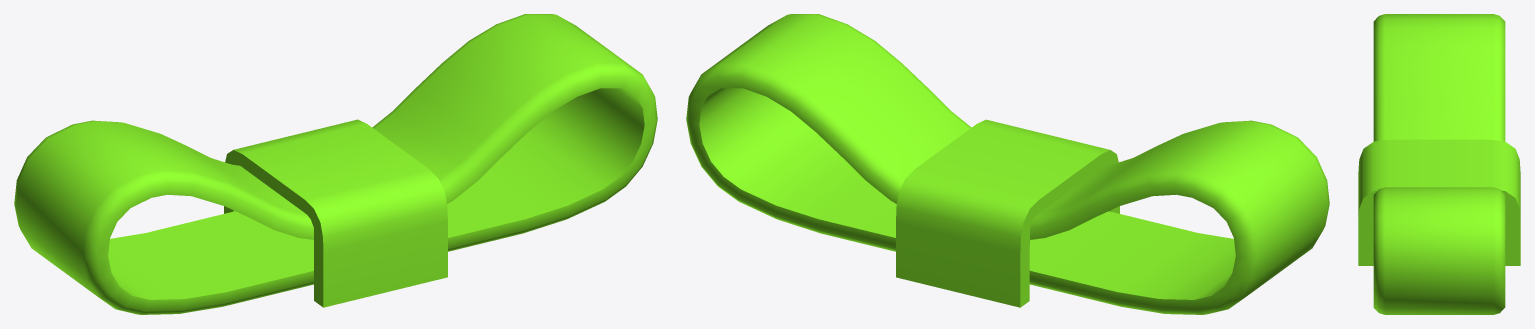
Rendered from Cake_ThemeBows_E.FBX.
The picture shows the model from 3 angles, left to right: view 1: azimuth 30°, elevation 25°; view 2: azimuth 150°, elevation 25°; view 3: azimuth 270°, elevation 25°; orthographic projection. The views are drawn at different scales.
Visible parts, largest first — view 1: Cake_ThemeBows_E; view 2: Cake_ThemeBows_E; view 3: Cake_ThemeBows_E.
Boxes of the visible parts, x1,y1,x2,y2 form: Cake_ThemeBows_E: (14, 14, 657, 314); Cake_ThemeBows_E: (686, 14, 1329, 314); Cake_ThemeBows_E: (1358, 14, 1520, 314).
Size of the model in its own units: 104107 by 28081 by 31293.
